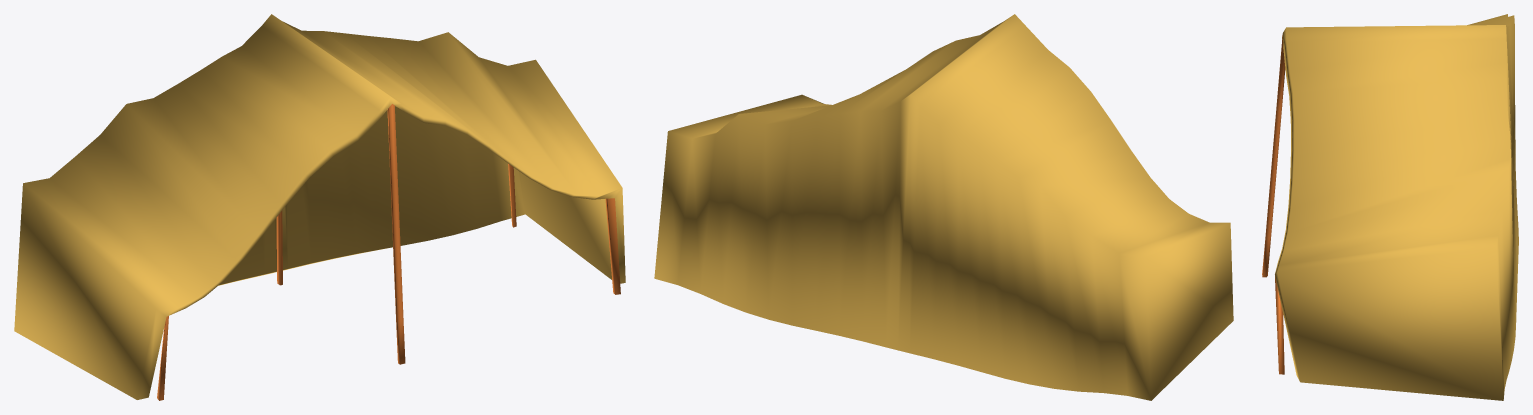
Rendered from teltta.fbx.
3 renders of one model, left to right at view 1: azimuth 30°, elevation 25°; view 2: azimuth 150°, elevation 25°; view 3: azimuth 270°, elevation 25°, orthographic. The views are drawn at different scales.
Visible parts, largest first — view 1: Cube; view 2: Cube; view 3: Cube.
Part boxes in pixels (x1=…): Cube: x1=14, y1=14, x2=625, y2=400; Cube: x1=654, y1=14, x2=1233, y2=400; Cube: x1=1262, y1=14, x2=1518, y2=400.
Bounding box in the file's own units: 2.11 × 1.03 × 0.9309.
